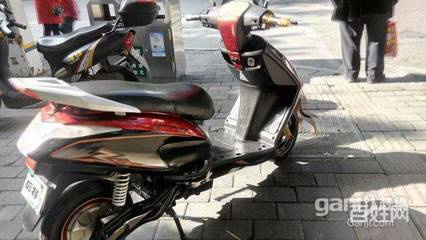non-vehicle: (14, 3, 331, 233), (1, 1, 159, 106)
